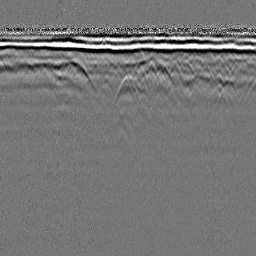cavity: (113, 72, 143, 110)
